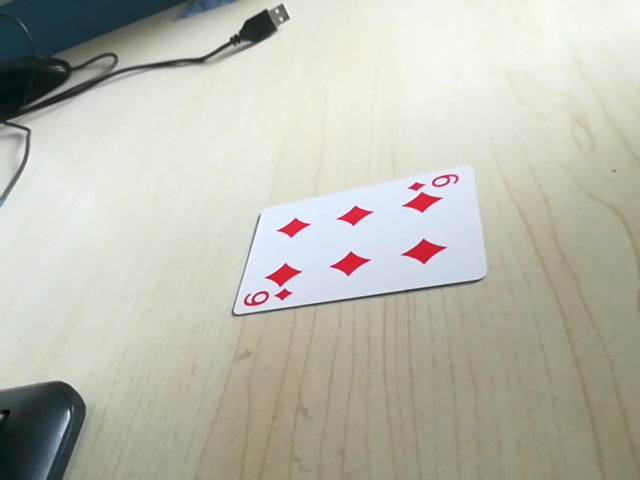fk 6: (409, 168, 467, 196), (237, 285, 297, 312)
